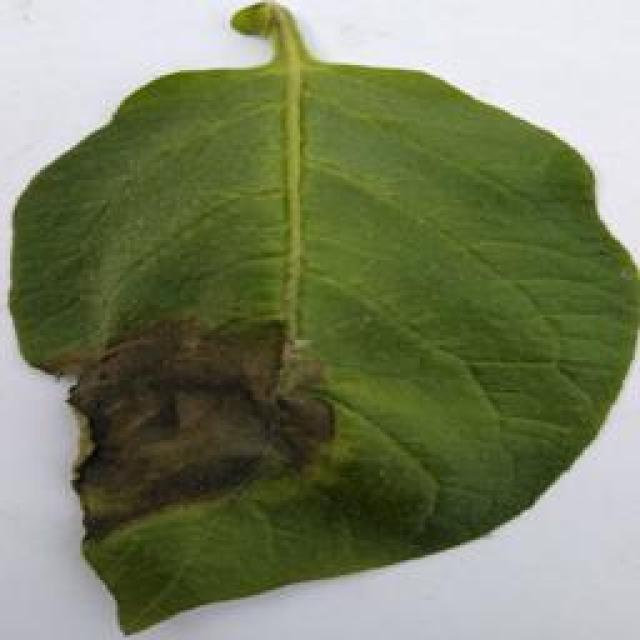Potato_Late_Blight: (12, 5, 628, 636)
